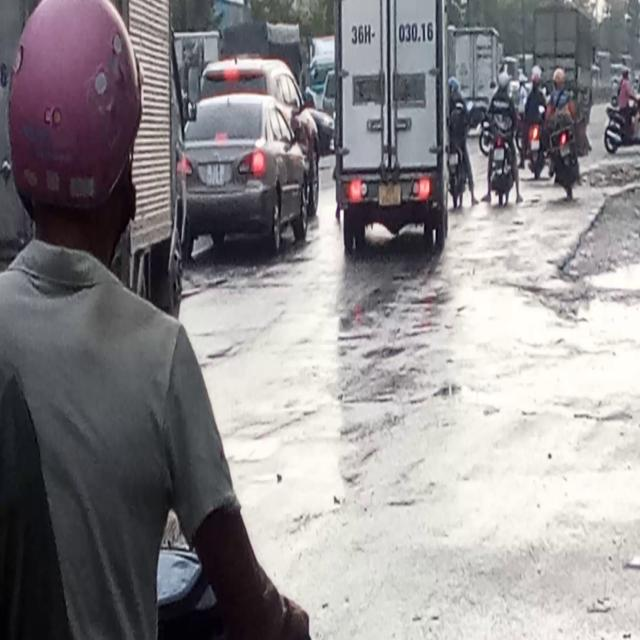bien_vang: (377, 186, 402, 210)
